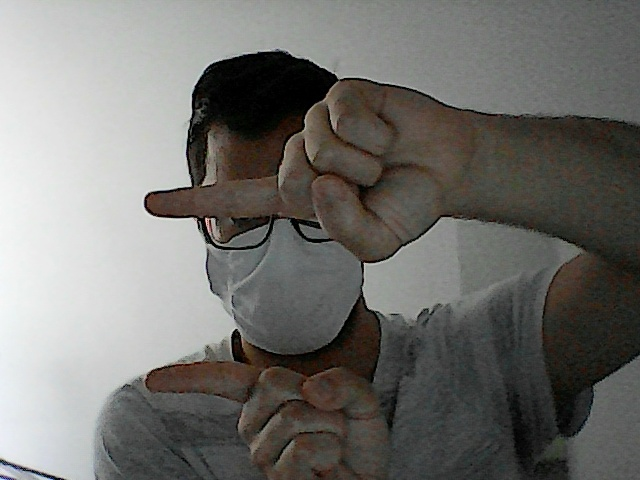right: (139, 74, 456, 266), (135, 355, 399, 480)
